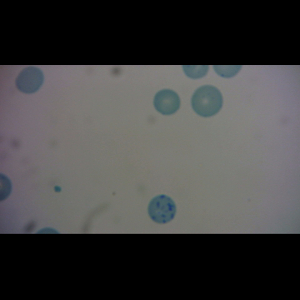aggregate reticulocyte: (147, 194, 178, 225)
erythrocyte: (189, 84, 224, 118), (14, 65, 46, 95), (153, 88, 182, 117)
